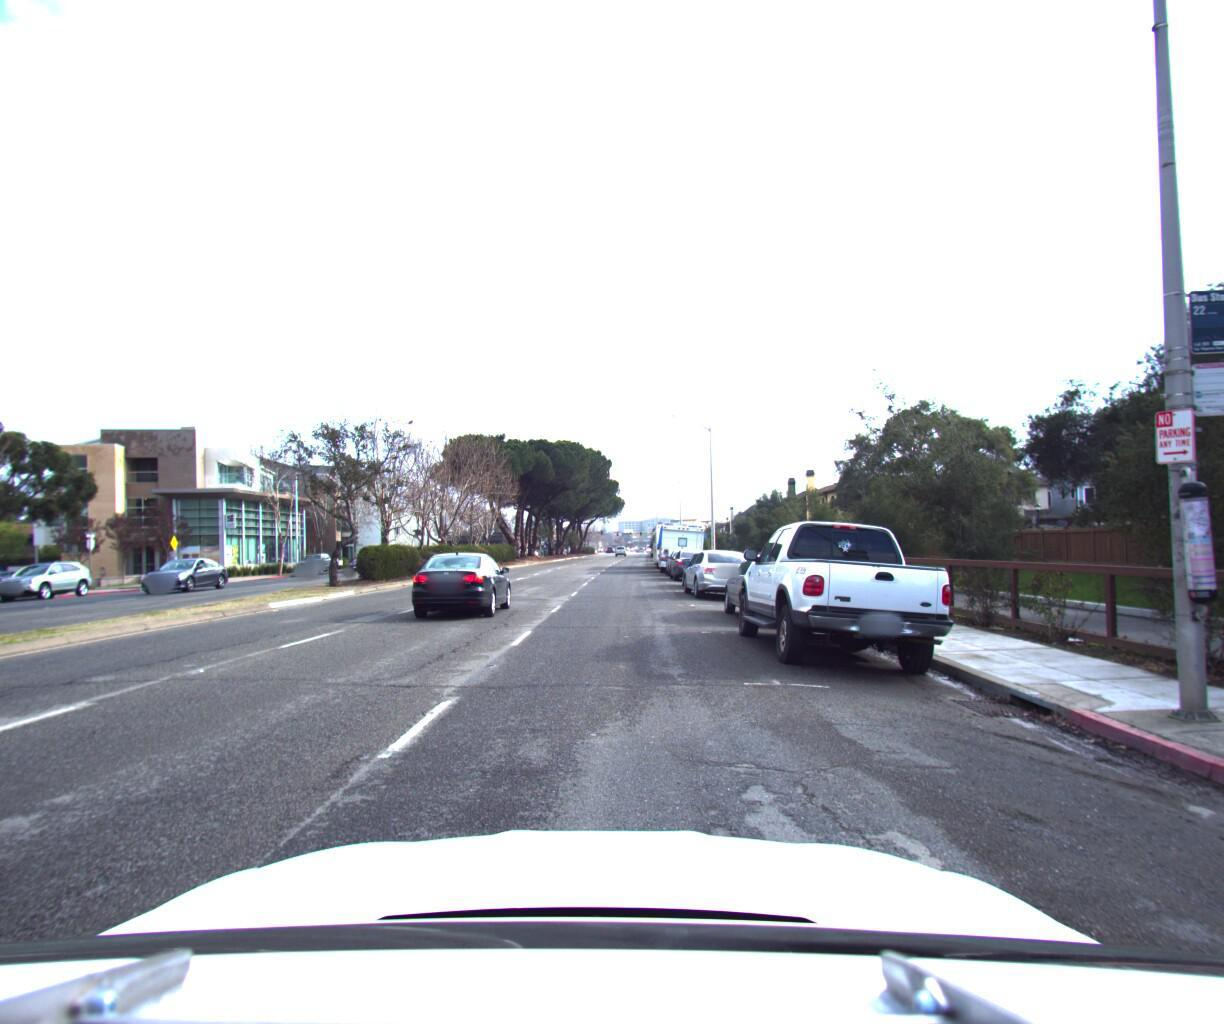car: (730, 507, 962, 684), (714, 543, 832, 628), (407, 545, 517, 620), (677, 540, 760, 597), (135, 550, 232, 590), (666, 538, 713, 576), (289, 544, 341, 568)
other_vehicle: (655, 511, 705, 568), (650, 507, 695, 563)
